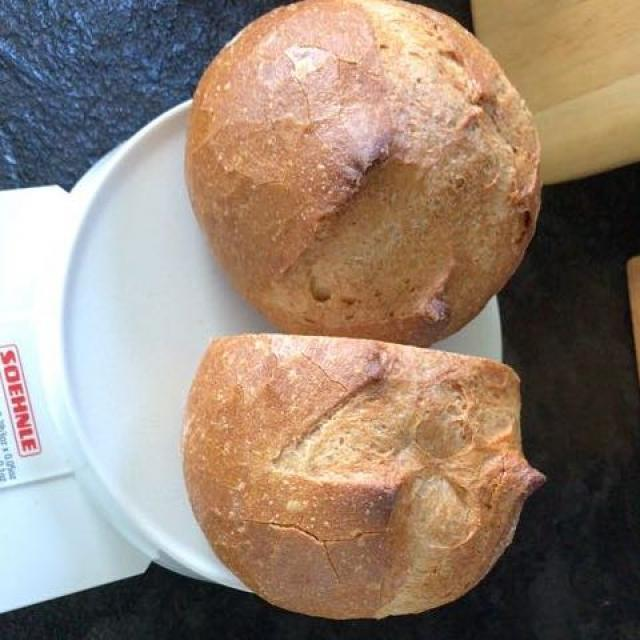bread-white: (182, 13, 534, 619)
